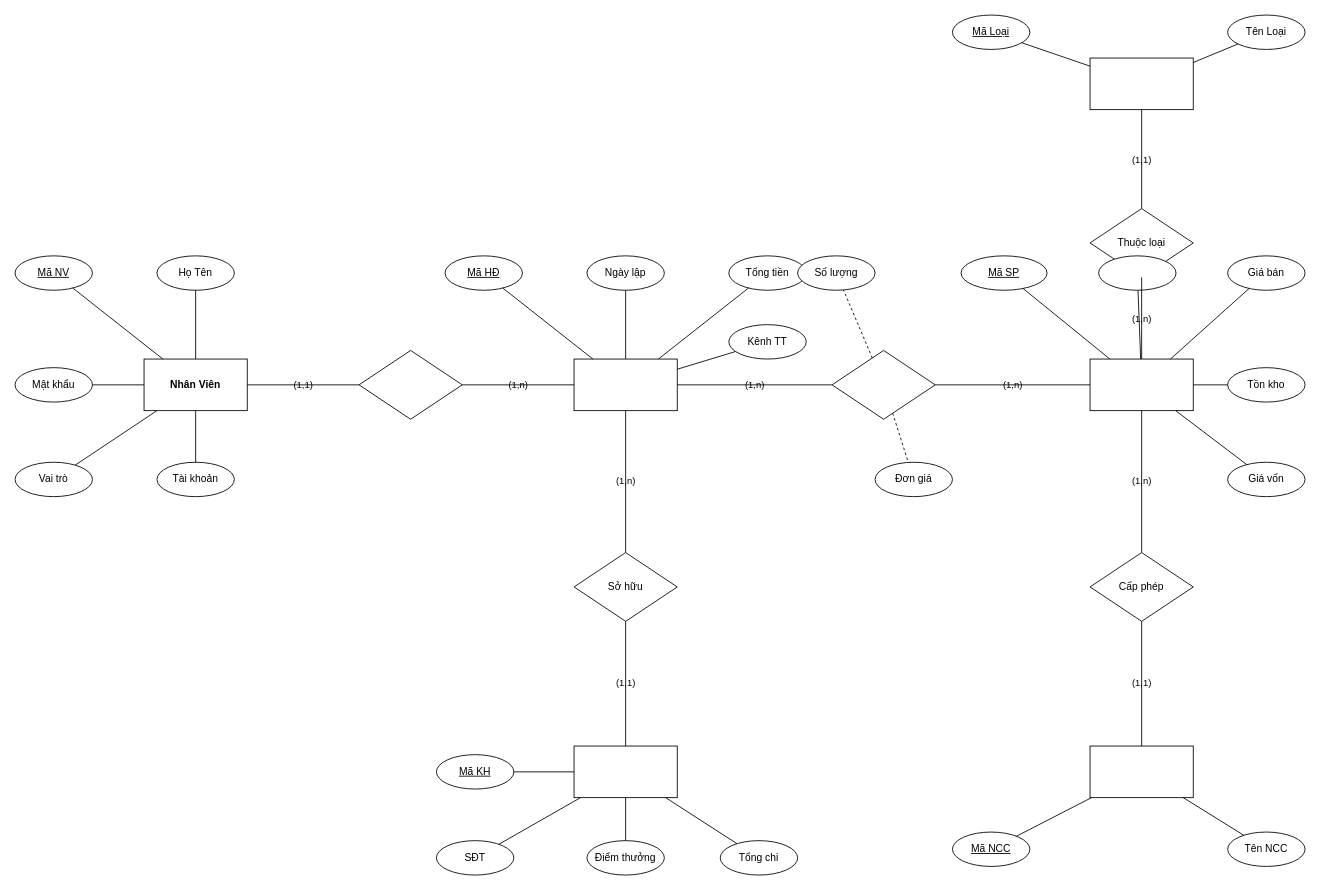
Some shapes in this 1320 by 890 pixel diagram are drawn without their labels. Here are the shapes that lost their labels. From the top down, the centre of each, then its label:
point 1141,83: Loại Hàng
point 1137,272: Tên MH
point 410,384: Lập
point 625,384: Hóa Đơn
point 883,384: Chi tiết
point 1141,384: Mặt Hàng
point 625,771: Khách Hàng
point 1141,771: Nhà Cung Cấp
